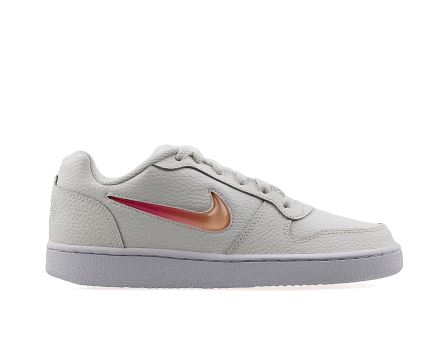nike: (105, 191, 233, 233)
